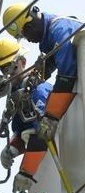boots: (11, 172, 35, 193)
gloves: (40, 79, 70, 138), (0, 143, 16, 167)
hard-hat: (0, 36, 26, 67)
ppe-suit: (0, 0, 85, 193)
